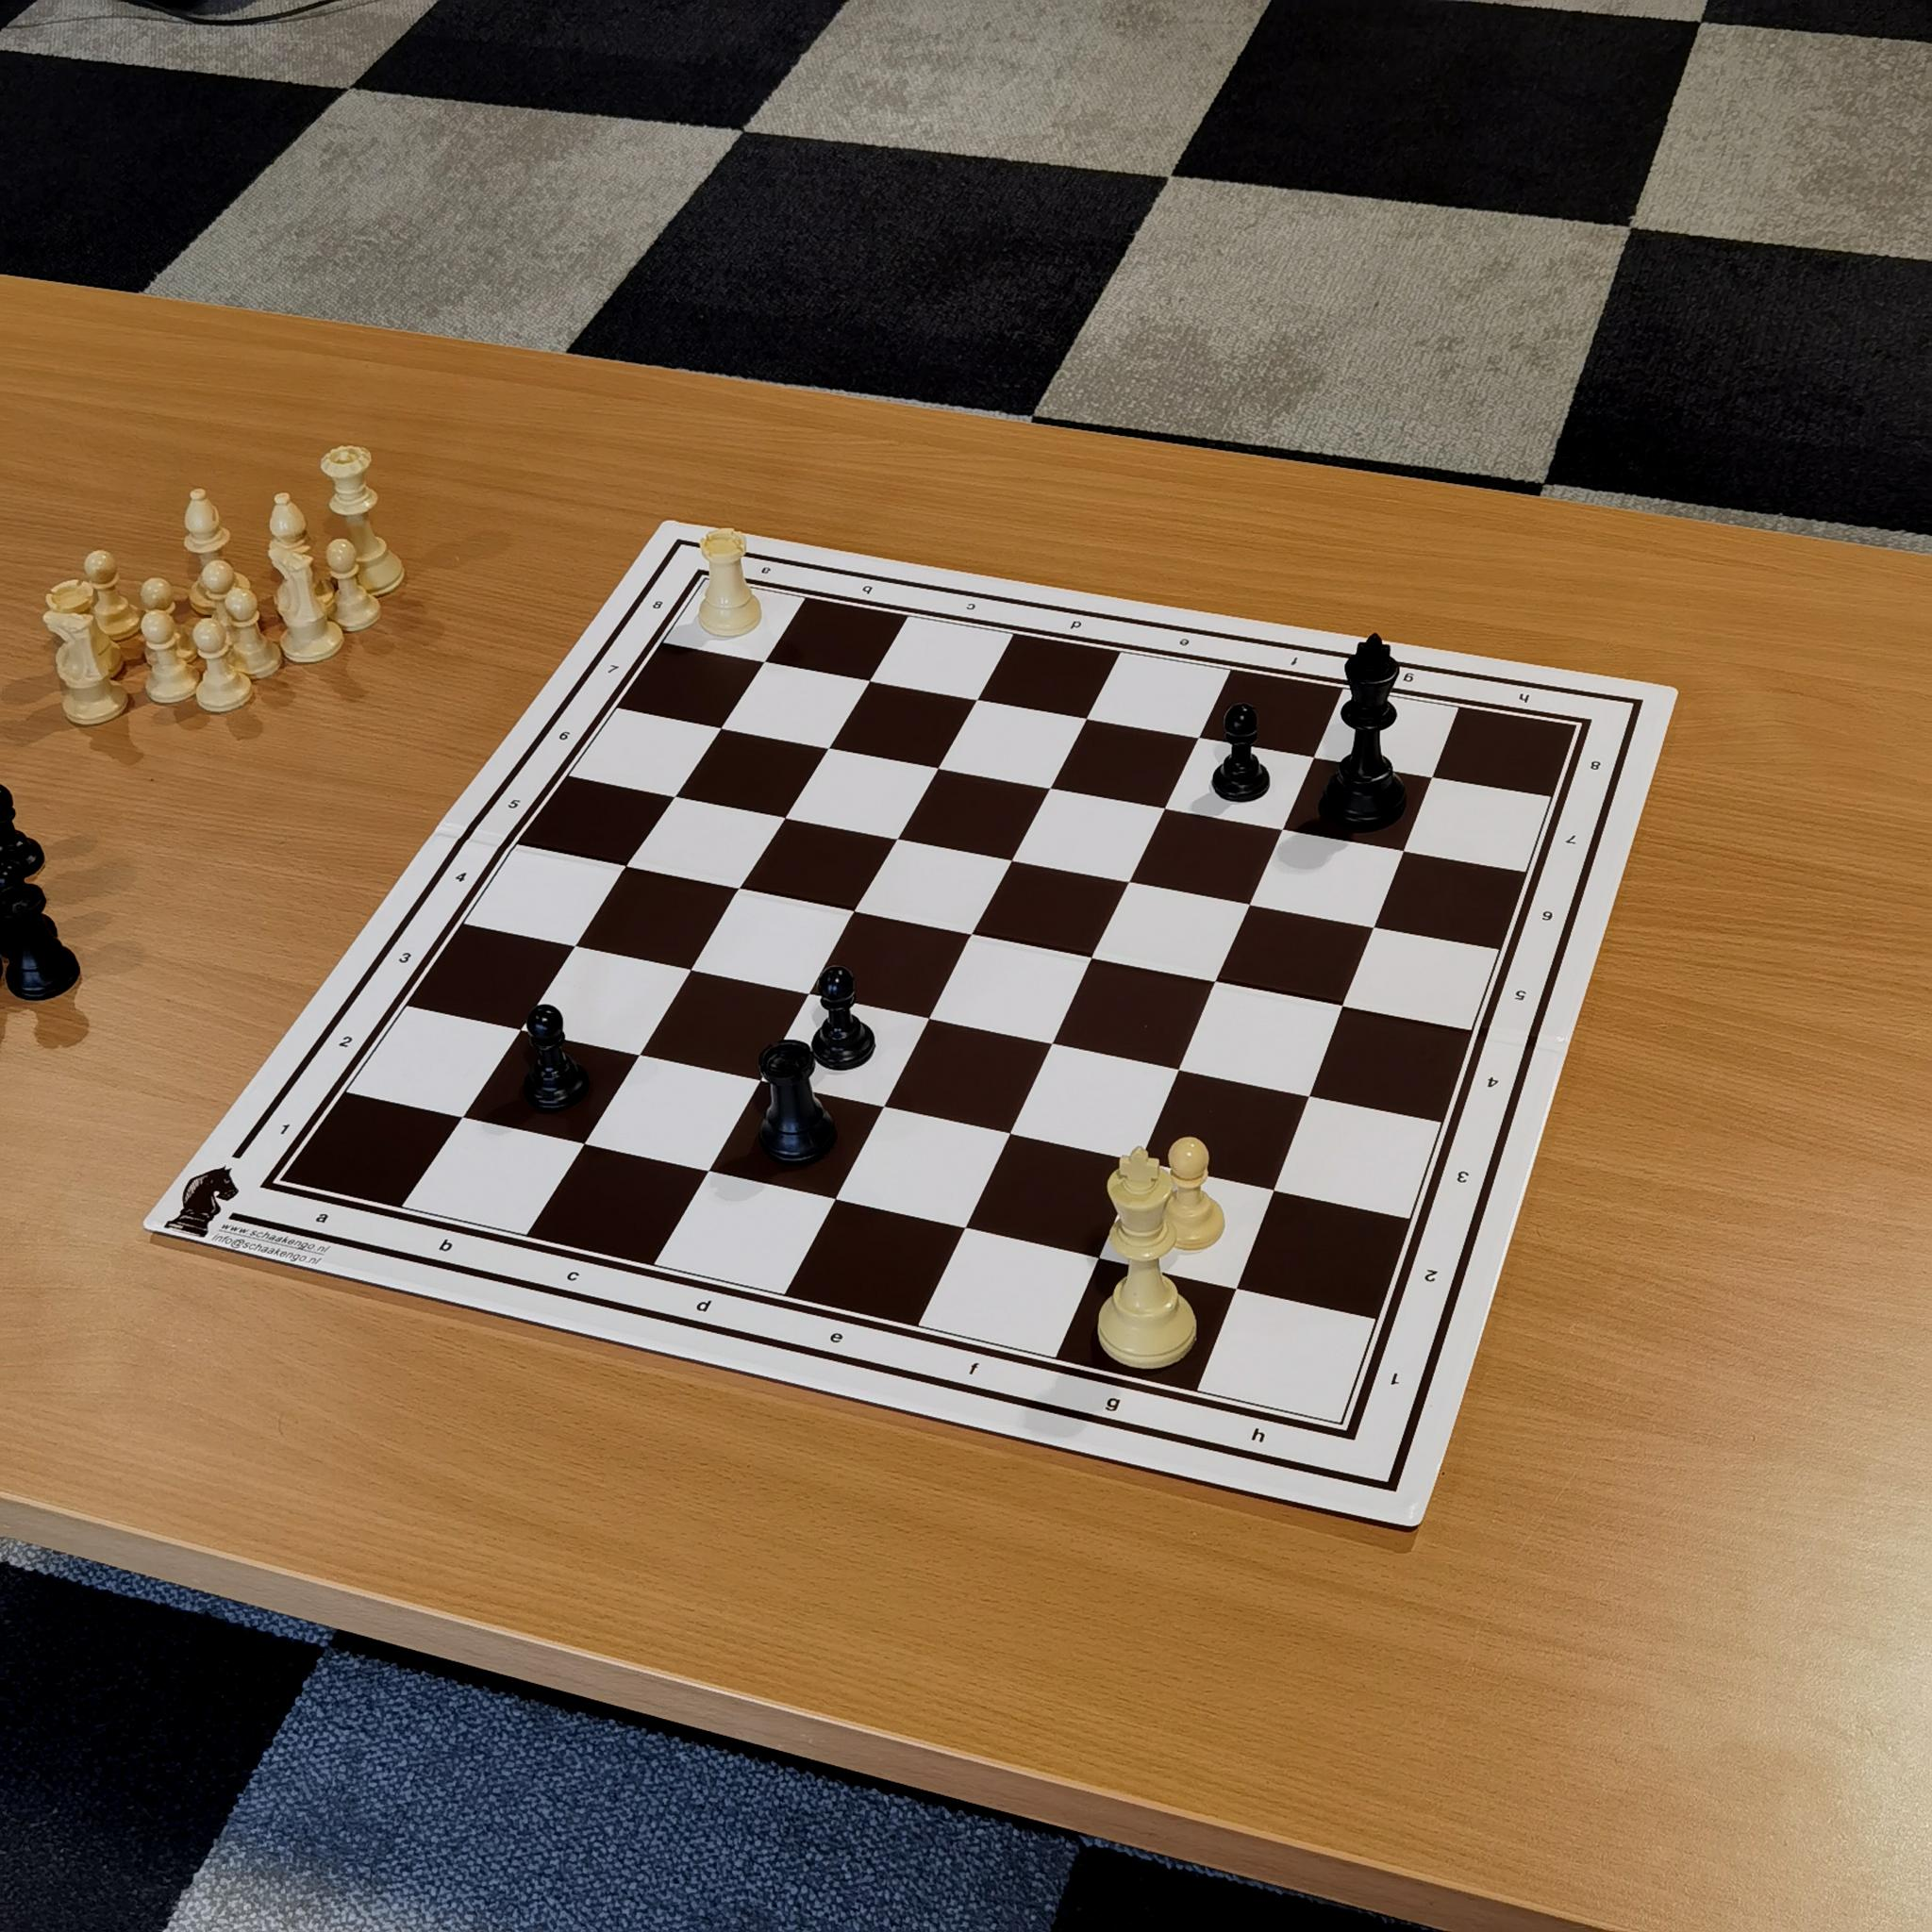corners: (248, 1168, 297, 1212), (1329, 1408, 1375, 1454), (1559, 711, 1606, 748), (692, 554, 727, 589)
eight: (1580, 743, 1615, 787), (646, 586, 674, 621)
one: (1375, 1355, 1414, 1405), (274, 1099, 308, 1143)
